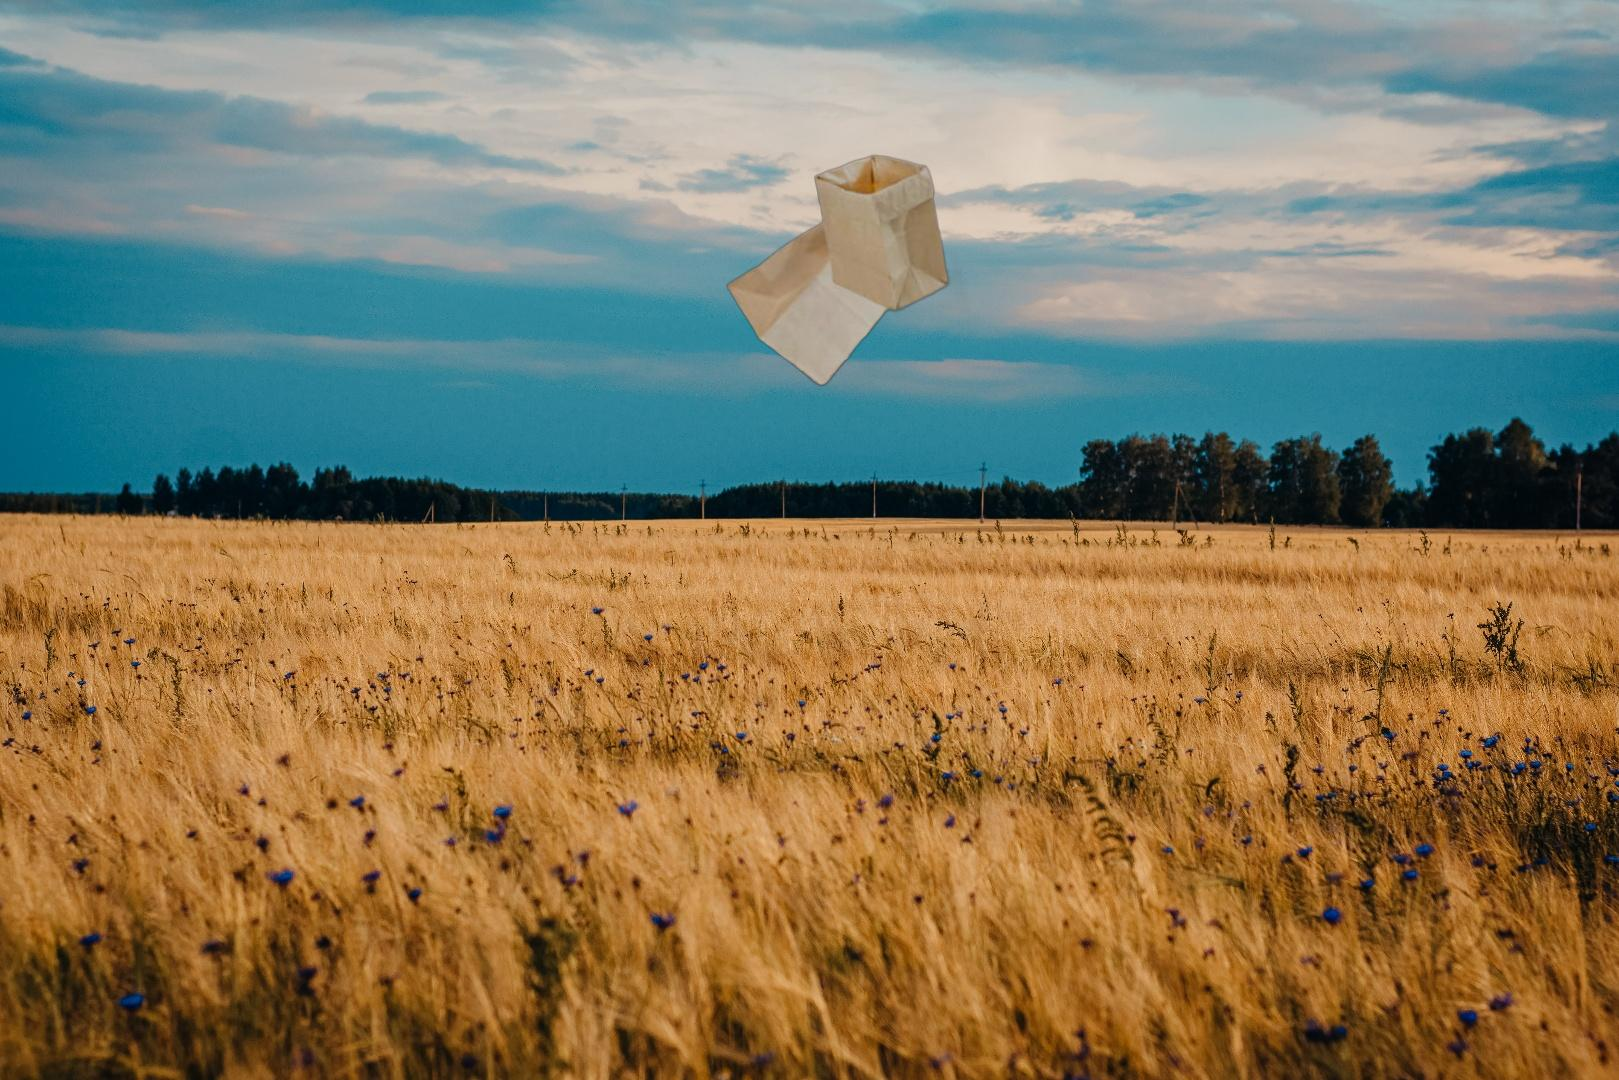paper-bag: (725, 153, 972, 389)
